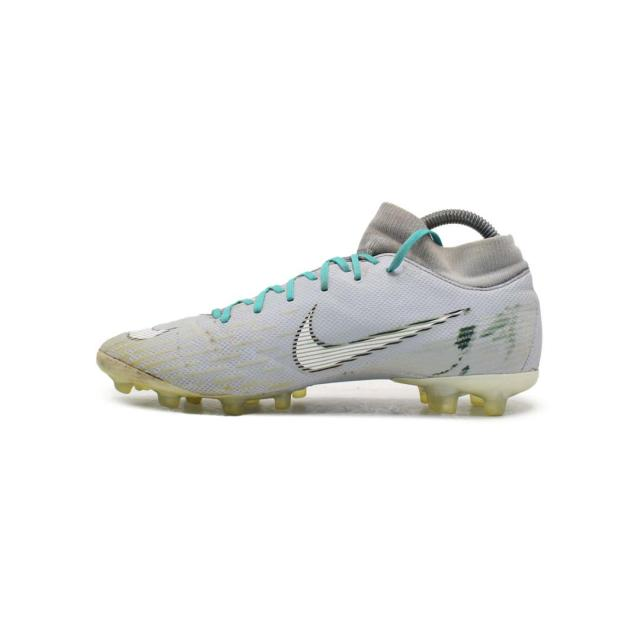heel: (496, 235, 542, 370)
midsole: (99, 354, 541, 415)
uppersole: (93, 198, 515, 393)
